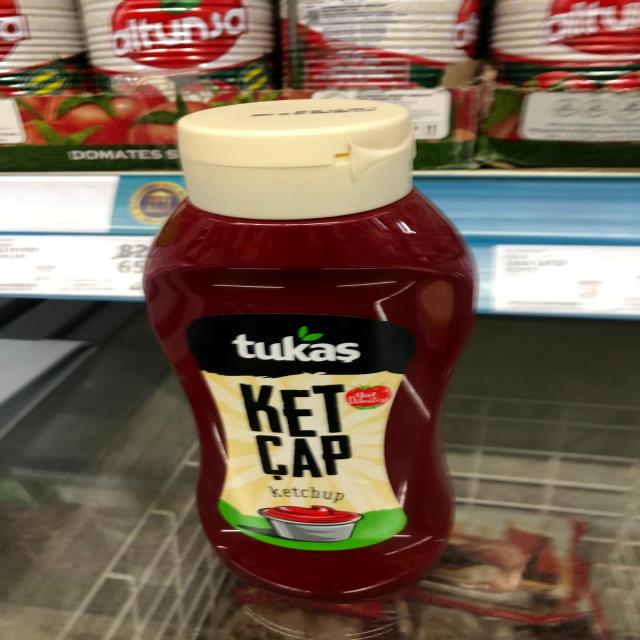ketchup: (134, 87, 498, 609)
